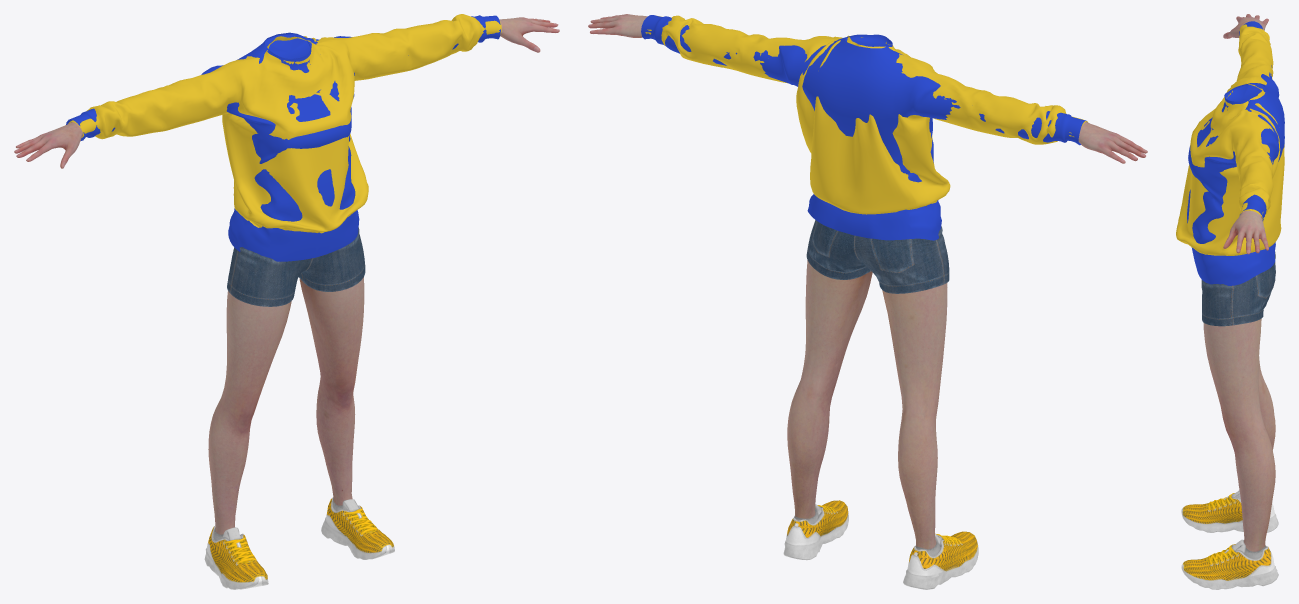
Rendered from Female Character.gltf.
The picture shows the model from 3 angles, left to right: view 1: azimuth 30°, elevation 25°; view 2: azimuth 150°, elevation 25°; view 3: azimuth 270°, elevation 25°; orthographic projection. The views are drawn at different scales.
Parts seen in each view (by area): view 1: Top01, Legs, Top02, Short, Shoes, Hand; view 2: Top01, Legs, Top02, Short, Shoes, Hand; view 3: Top01, Legs, Top02, Shoes, Short, Hand.
Boxes of the visible parts, x1=… form: Top01: x1=68, y1=14, x2=501, y2=233; Legs: x1=208, y1=277, x2=364, y2=540; Top02: x1=66, y1=15, x2=500, y2=261; Short: x1=227, y1=227, x2=365, y2=306; Shoes: x1=204, y1=497, x2=394, y2=589; Hand: x1=14, y1=17, x2=559, y2=168; Top01: x1=645, y1=15, x2=1087, y2=214; Legs: x1=787, y1=260, x2=947, y2=556; Top02: x1=641, y1=15, x2=1086, y2=240; Short: x1=806, y1=205, x2=949, y2=293; Shoes: x1=783, y1=500, x2=978, y2=589; Hand: x1=588, y1=14, x2=1147, y2=163; Top01: x1=1176, y1=24, x2=1284, y2=255; Legs: x1=1203, y1=318, x2=1275, y2=559; Top02: x1=1187, y1=21, x2=1284, y2=285; Shoes: x1=1181, y1=490, x2=1278, y2=589; Short: x1=1201, y1=252, x2=1275, y2=326; Hand: x1=1223, y1=14, x2=1268, y2=254.
Size of the model in its own units: 1.67 by 1.52 by 0.3215.
3 materials, 1 textured.
